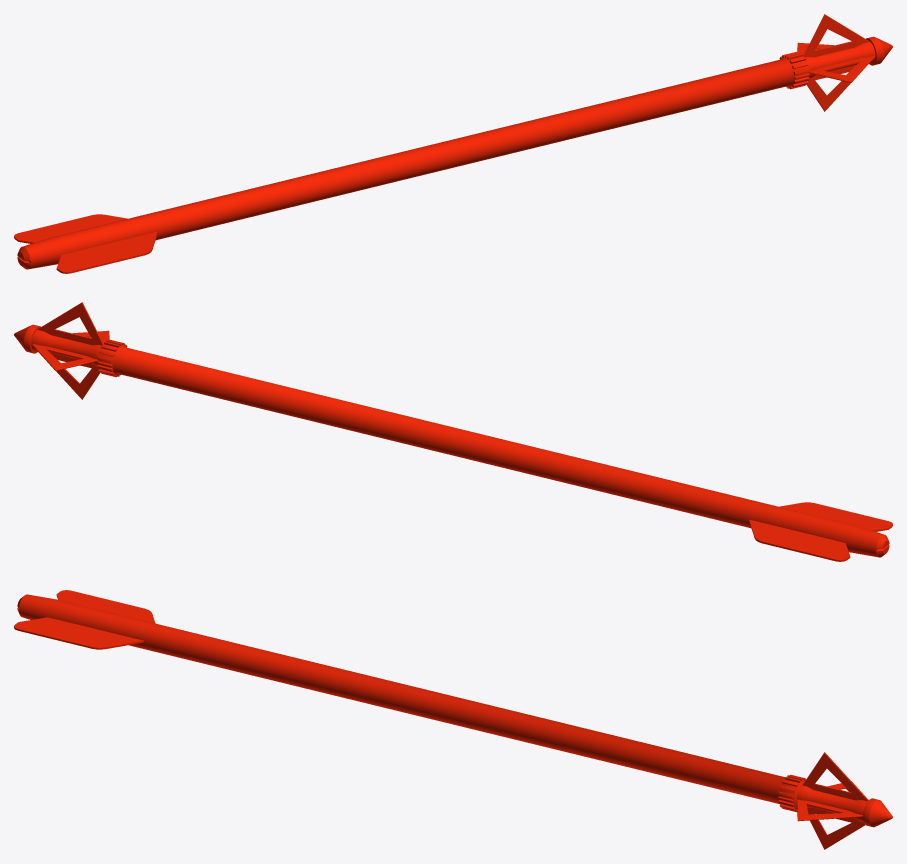
Rendered from arrow.obj.
3 renders of one model, top to bottom at view 1: azimuth 30°, elevation 25°; view 2: azimuth 150°, elevation 25°; view 3: azimuth 330°, elevation 25°, orthographic.
Visible parts, largest first — view 1: node_id4 root; view 2: node_id4 root; view 3: node_id4 root.
Part boxes in pixels (bbox=[...]): node_id4 root: bbox=[14, 14, 892, 273]; node_id4 root: bbox=[14, 302, 892, 561]; node_id4 root: bbox=[14, 590, 892, 849].
Bounding box in the file's own units: 1.24 × 0.1323 × 0.1323.
Materials: 1 (1 with a texture image).
